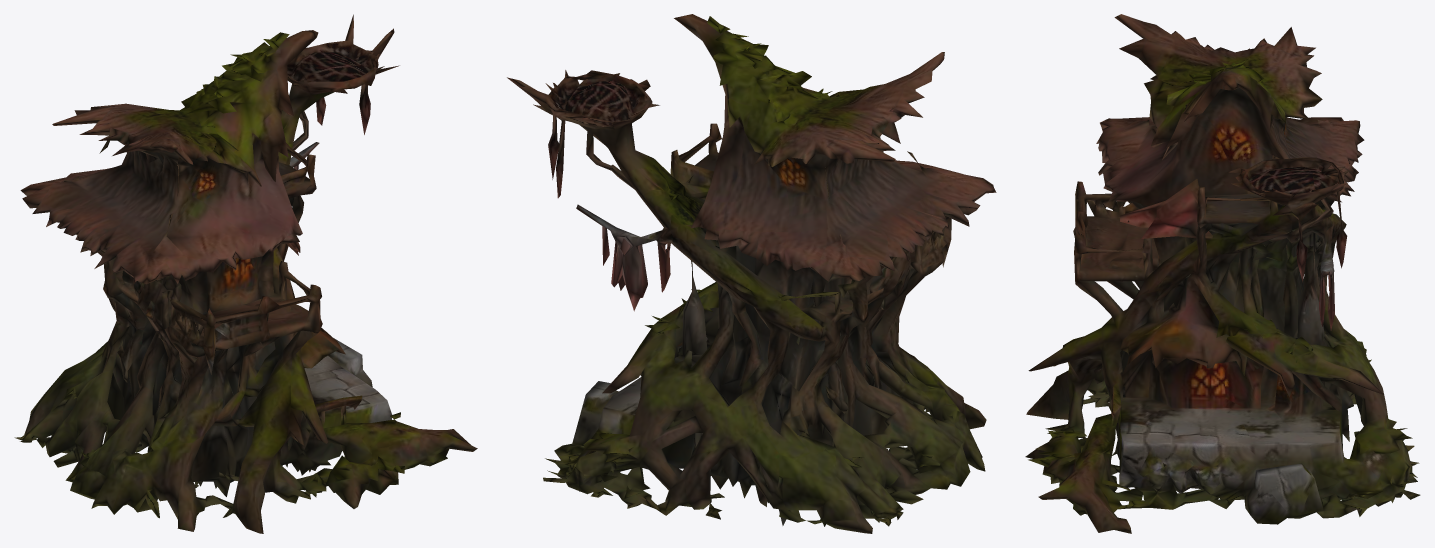
3 views of the same model, side by side, from view 1: azimuth 30°, elevation 25°; view 2: azimuth 150°, elevation 25°; view 3: azimuth 270°, elevation 25° (orthographic). The views are drawn at different scales.
Parts seen in each view (by area): view 1: tripo_node_e147cc7b-bf82-4e7e-9d5f-87e80de116a7; view 2: tripo_node_e147cc7b-bf82-4e7e-9d5f-87e80de116a7; view 3: tripo_node_e147cc7b-bf82-4e7e-9d5f-87e80de116a7.
Boxes of the visible parts, x1=… form: tripo_node_e147cc7b-bf82-4e7e-9d5f-87e80de116a7: x1=14, y1=14, x2=477, y2=533; tripo_node_e147cc7b-bf82-4e7e-9d5f-87e80de116a7: x1=507, y1=14, x2=996, y2=533; tripo_node_e147cc7b-bf82-4e7e-9d5f-87e80de116a7: x1=1025, y1=14, x2=1420, y2=533.
Bounding box in the file's own units: 3.6 × 3.99 × 3.18.
Materials: 1 (1 with a texture image).
